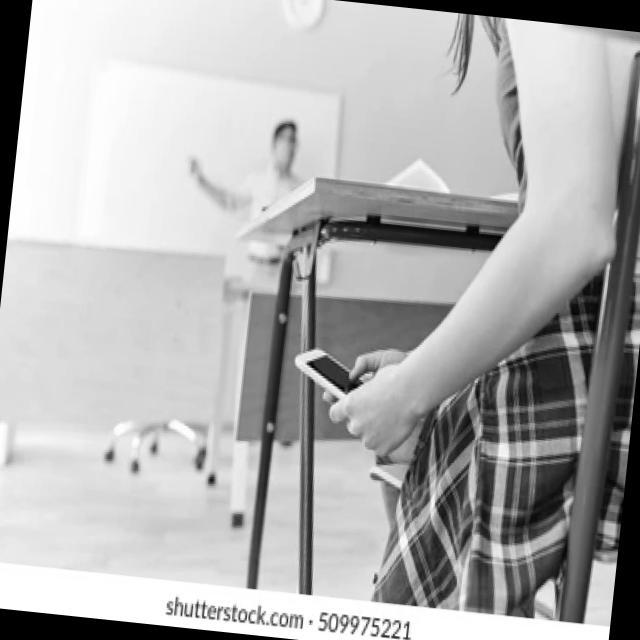phone: (290, 343, 370, 403)
